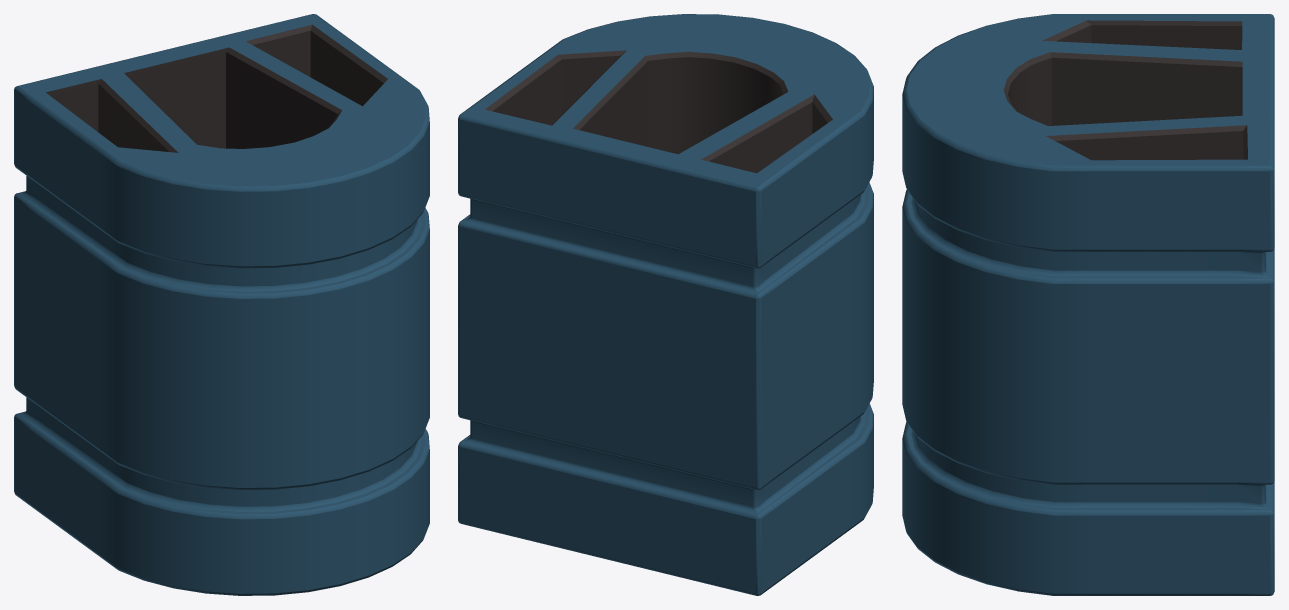
File: trashcan_tier10.fbx
3 views of the same model, side by side, from view 1: azimuth 30°, elevation 25°; view 2: azimuth 150°, elevation 25°; view 3: azimuth 270°, elevation 25° (orthographic). The views are drawn at different scales.
Visible parts, largest first — view 1: Cylinder; view 2: Cylinder; view 3: Cylinder.
Part boxes in pixels (<box>): Cylinder: <box>14,14,429,595</box>; Cylinder: <box>458,14,873,595</box>; Cylinder: <box>902,14,1274,595</box>.
Bounding box in the file's own units: 0.6528 × 0.843 × 0.6609.
